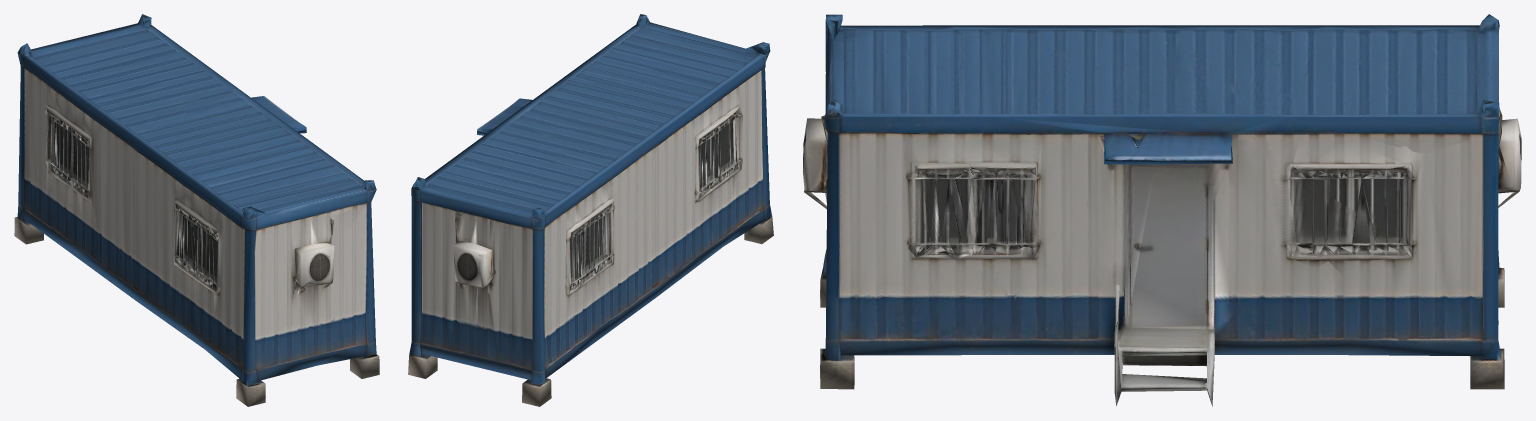
Rendered from teluk-site-cabin.glb.
The picture shows the model from 3 angles, left to right: view 1: azimuth 30°, elevation 25°; view 2: azimuth 150°, elevation 25°; view 3: azimuth 270°, elevation 25°; orthographic projection. The views are drawn at different scales.
Parts seen in each view (by area): view 1: teluk-site-cabin; view 2: teluk-site-cabin; view 3: teluk-site-cabin.
Boxes of the visible parts, x1,y1,x2,y2 form: teluk-site-cabin: (14, 14, 379, 406); teluk-site-cabin: (408, 14, 773, 406); teluk-site-cabin: (802, 14, 1521, 406).
Bounding box in the file's own units: 2.5 × 2.6 × 6.
Materials: 1 (1 with a texture image).
